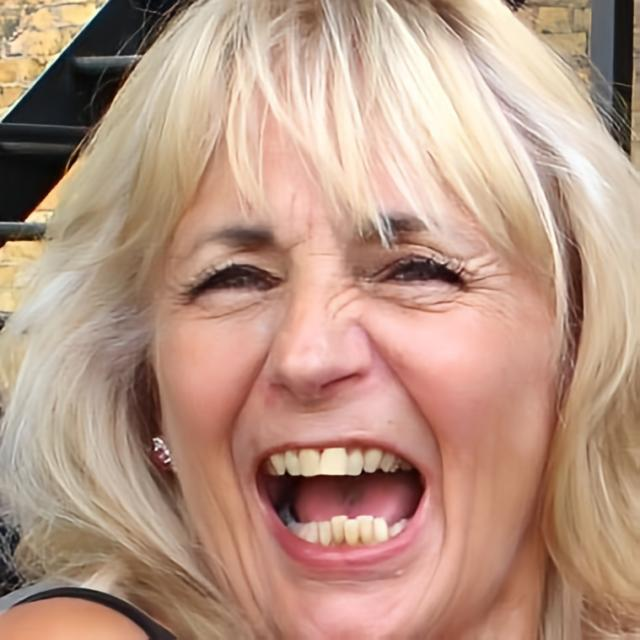anger: (146, 60, 559, 640)
